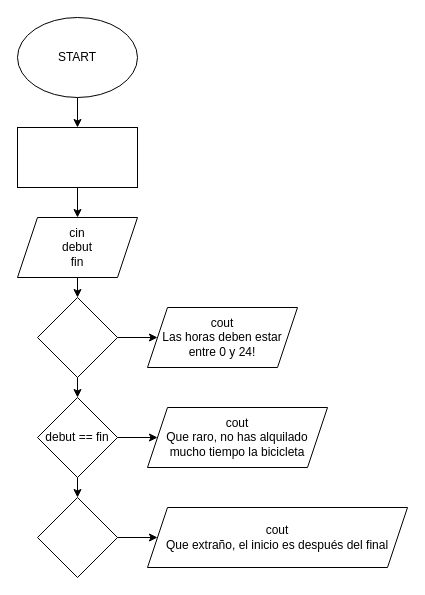
This 425x595 diagram has some shape labels left out. Here are the shapes that lost their labels. From the top down, the box of each, then its label:
(16, 126, 138, 188): int debut int fin
(36, 296, 118, 378): debut < 0 || fin > 0
(36, 496, 118, 578): debut > fin
